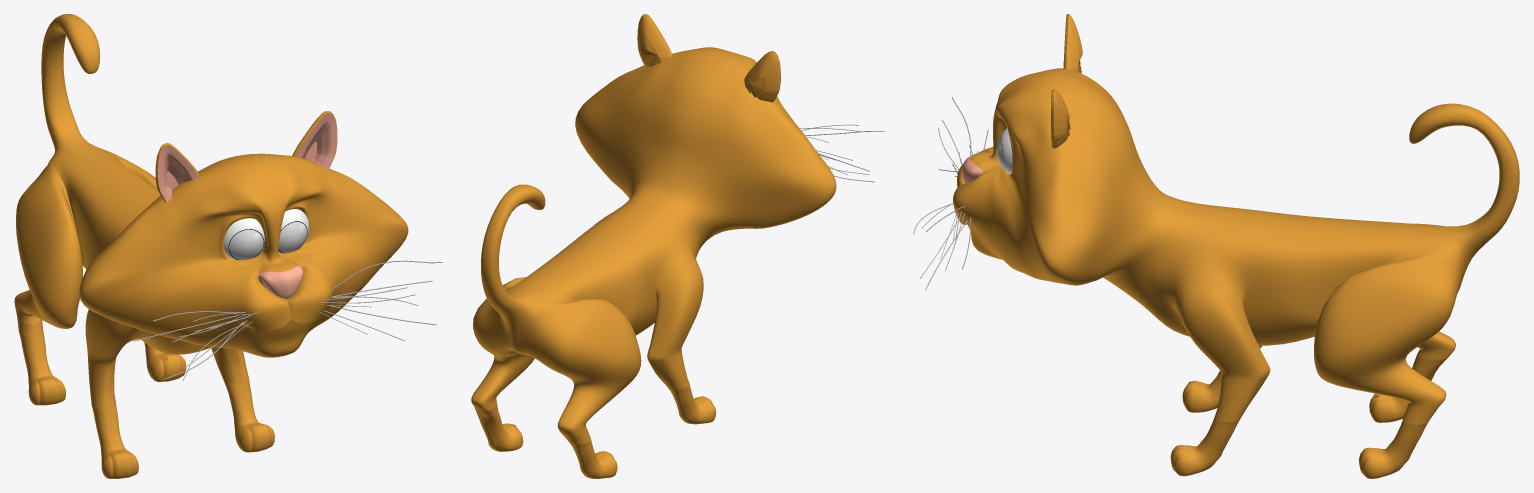
File: M_Curry.fbx
3 views of the same model, side by side, from view 1: azimuth 30°, elevation 25°; view 2: azimuth 150°, elevation 25°; view 3: azimuth 270°, elevation 25° (orthographic). The views are drawn at different scales.
Parts seen in each view (by area): view 1: C_Curry1, polySurface2, polySurface3, L_eye_cone_GEO (×2), L_eye_GEO; view 2: C_Curry1, polySurface3, polySurface2; view 3: C_Curry1, polySurface2, polySurface3.
Part boxes in pixels (box(x1,y1,x2,y2)): C_Curry1: box(14, 14, 408, 478); polySurface2: box(292, 111, 337, 170); polySurface3: box(155, 142, 199, 202); L_eye_cone_GEO (×2): box(229, 222, 307, 259); L_eye_GEO: box(223, 218, 264, 260); C_Curry1: box(471, 47, 836, 478); polySurface3: box(744, 51, 780, 102); polySurface2: box(637, 14, 672, 66); C_Curry1: box(953, 68, 1519, 478); polySurface2: box(1051, 89, 1070, 148); polySurface3: box(1063, 14, 1082, 73).
Bounding box in the file's own units: 4.61 × 5.41 × 7.78.
